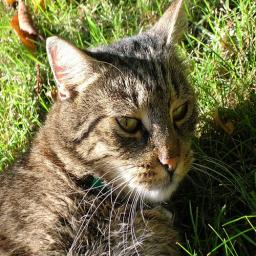catnose: (159, 148, 182, 175)
